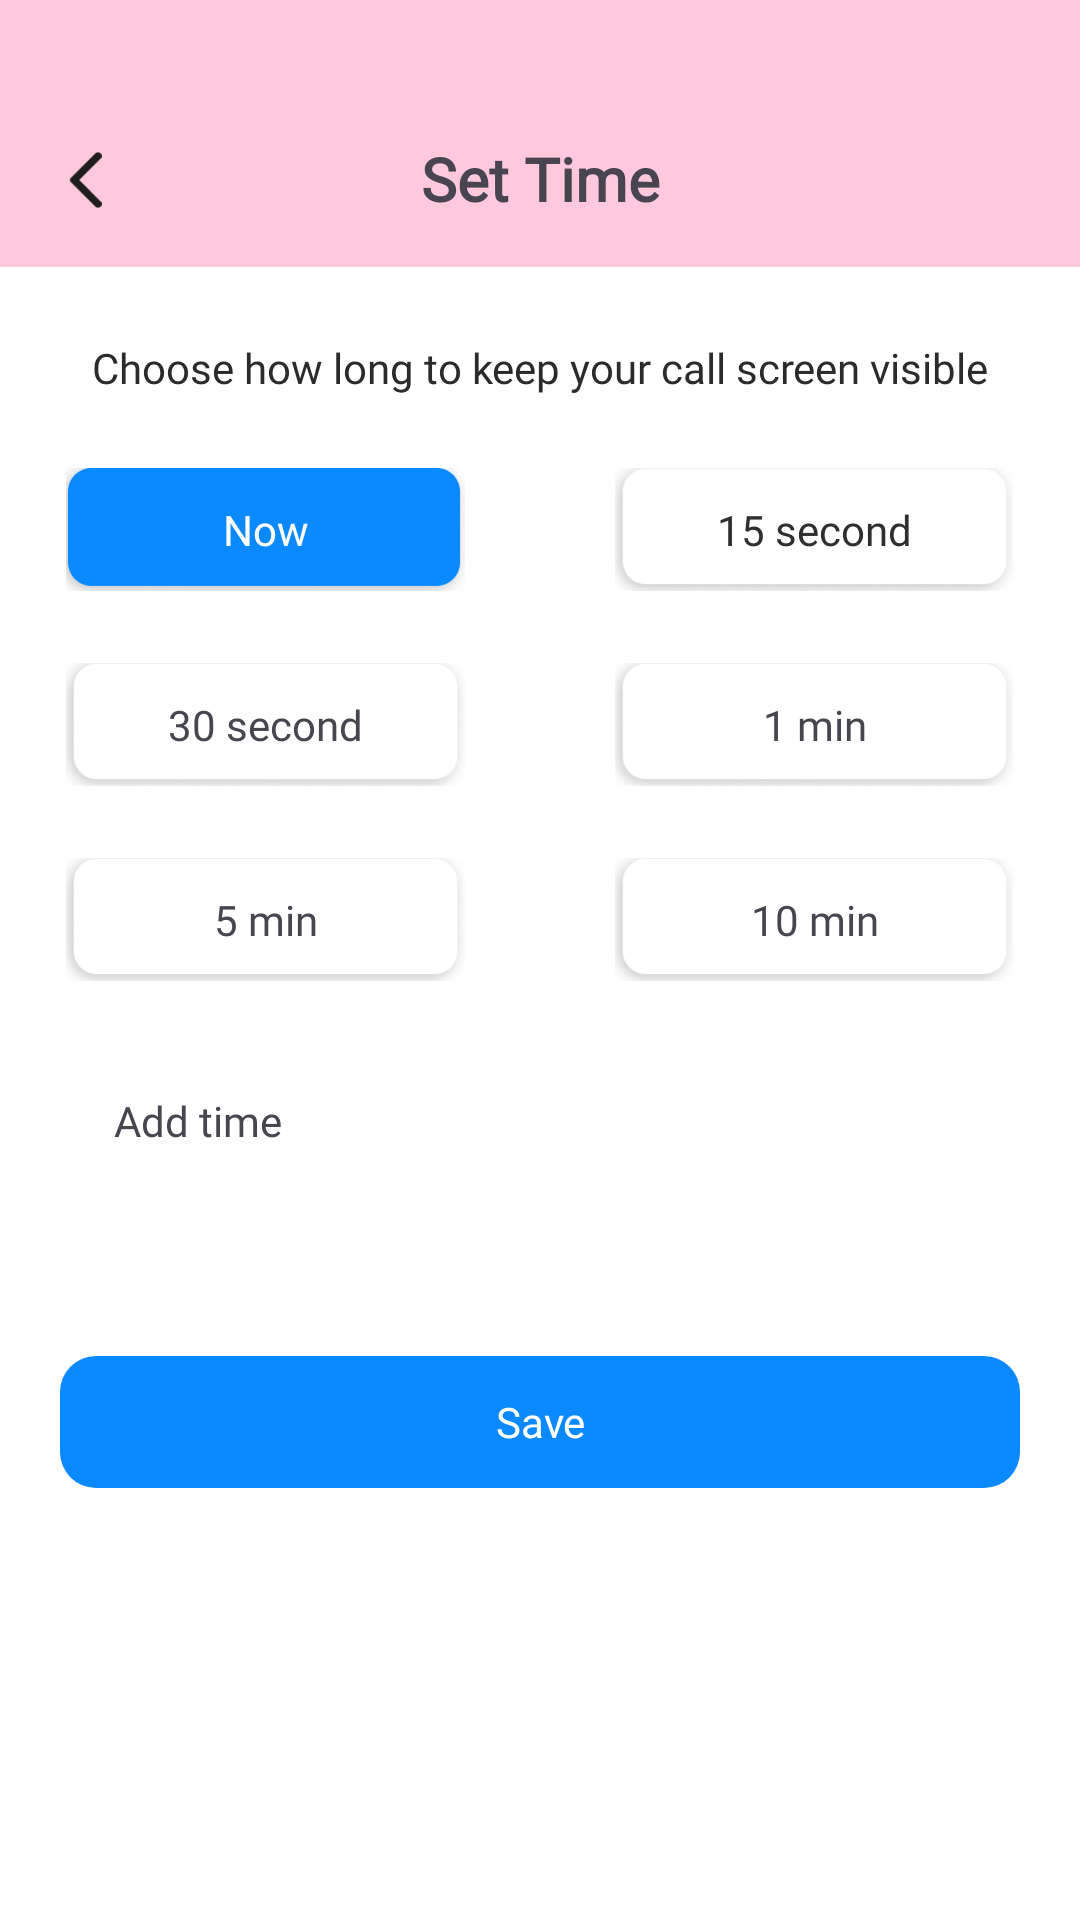

Screen size 1080w x 1920h. Icon name, then its center in pixels as (x=x, y=y):
arrowback addfakecall: (x=85, y=180)
